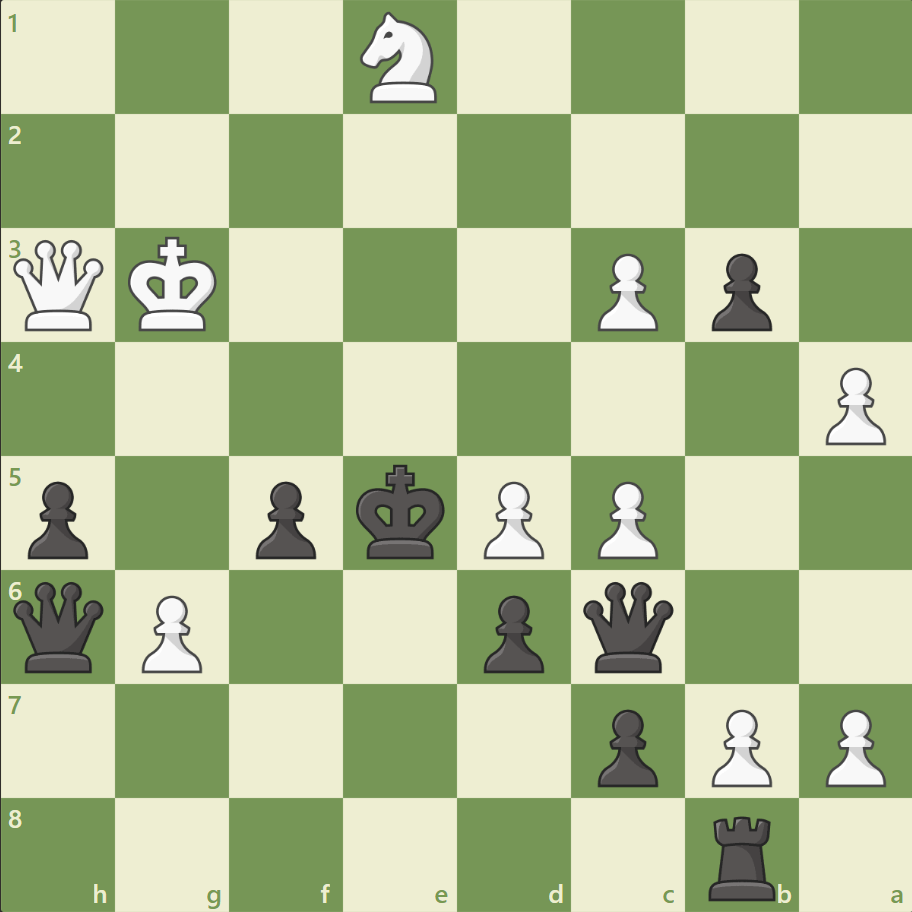K: (124, 231, 224, 339)
N: (351, 7, 449, 110)
P: (701, 700, 776, 791), (133, 586, 208, 677), (474, 473, 549, 564), (815, 700, 889, 791), (588, 473, 662, 564), (815, 359, 889, 450), (588, 246, 662, 337)
Q: (10, 236, 109, 335)
k: (351, 458, 451, 566)
p: (474, 586, 549, 677), (247, 473, 322, 564), (20, 473, 95, 564), (701, 246, 776, 337), (588, 700, 662, 791)
q: (578, 576, 677, 676), (10, 576, 109, 676)
r: (700, 806, 783, 904)
